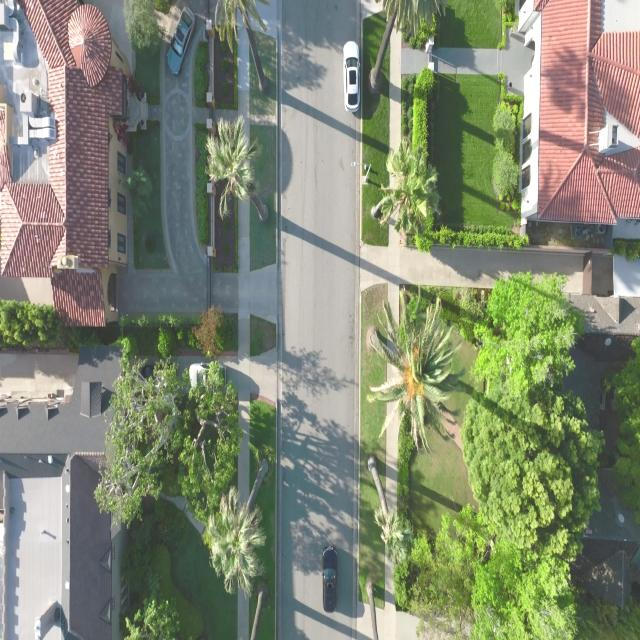Car: (165, 4, 197, 79), (342, 39, 361, 114), (321, 546, 339, 615)
